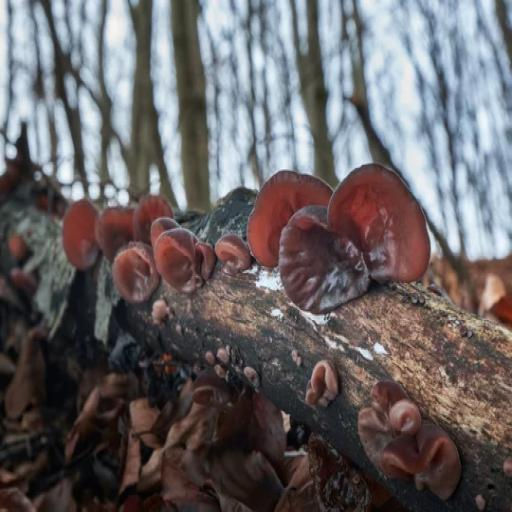mushroom: (324, 157, 437, 284), (244, 165, 344, 279), (277, 203, 373, 310), (148, 214, 224, 291), (109, 239, 162, 309), (62, 197, 102, 269), (97, 199, 142, 261), (131, 188, 180, 242)
